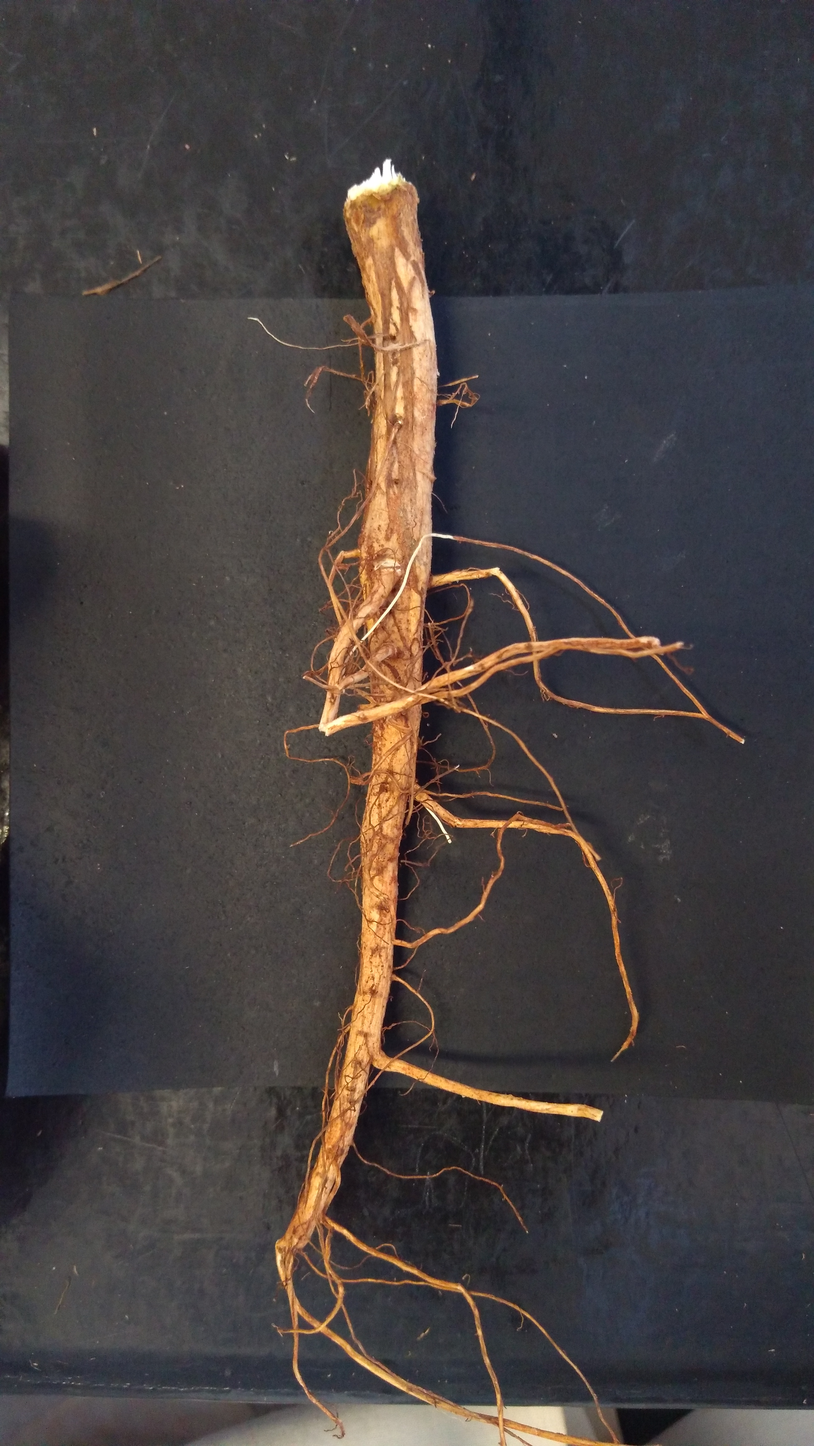nodule: (369, 557, 402, 581), (377, 680, 395, 703), (356, 702, 380, 713), (436, 369, 440, 378)
